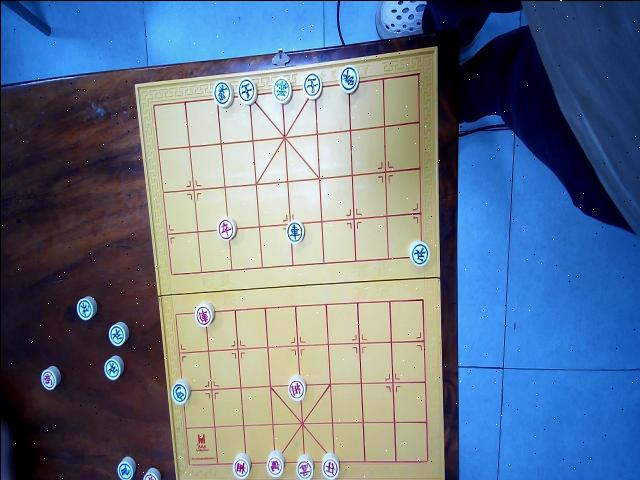piece: (194, 300, 214, 328), (170, 378, 190, 406), (236, 76, 256, 104), (272, 76, 292, 104), (338, 65, 358, 93), (211, 80, 231, 108), (302, 71, 321, 99), (215, 215, 235, 241), (230, 453, 250, 479), (39, 364, 59, 390), (409, 240, 429, 266), (75, 295, 95, 321), (102, 354, 122, 380), (106, 320, 126, 346), (264, 450, 282, 478), (294, 454, 313, 480), (286, 375, 305, 401), (320, 453, 338, 479), (284, 220, 302, 244), (116, 456, 134, 480), (141, 467, 160, 480)
